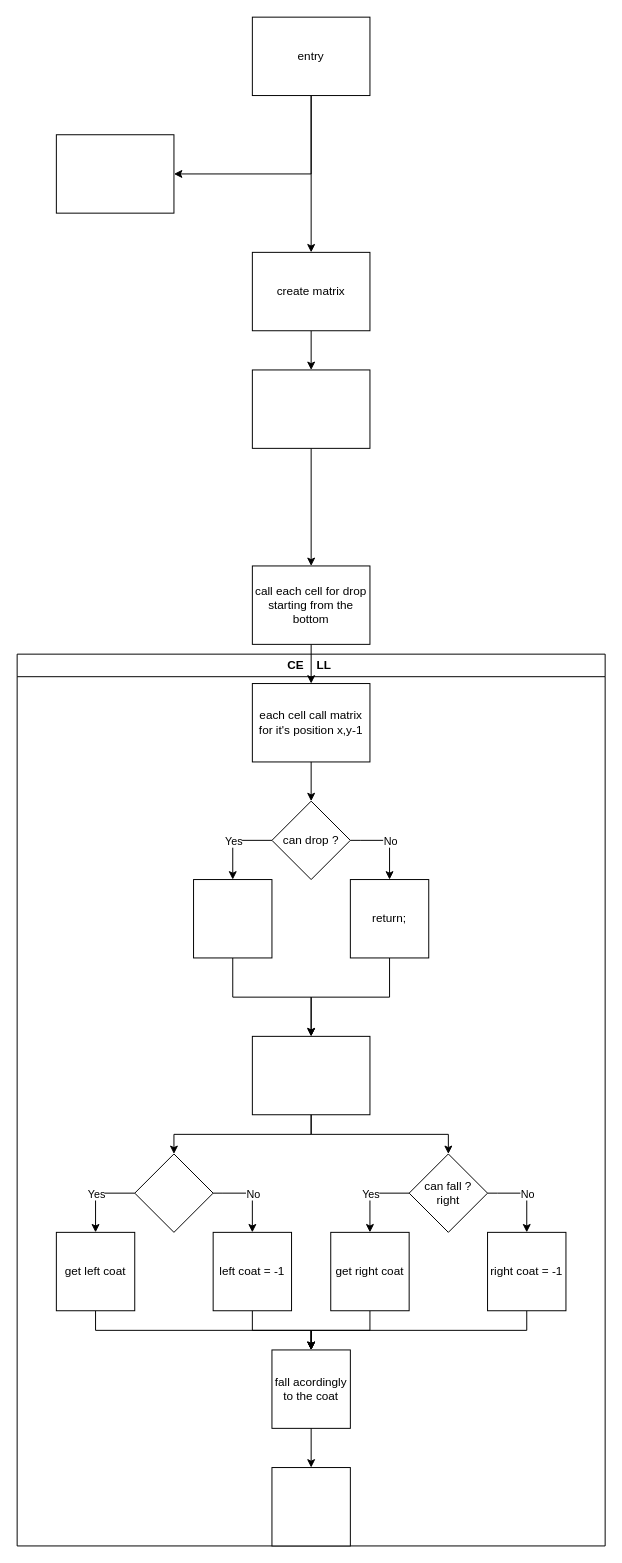
Some shapes in this 622 by 1563 pixel diagram are drawn without their labels. The centre of each missing label's shape, as x and y in pixels:
"call fall on each cell starting from top" goes at (310,1075).
"call matrix and update order to register it's new position" goes at (232,918).
"can fall ? left" goes at (173,1192).
"create buffer of original file" goes at (114,173).
"create update order" goes at (310,408).
"update matrix and update order" goes at (310,1506).
